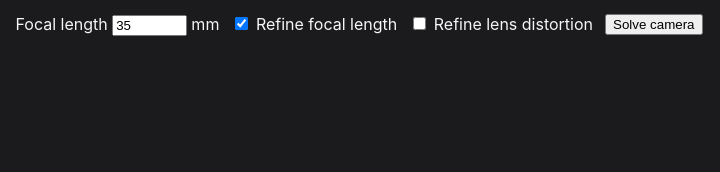
Test case: SolvePanel › shows why a solve failed
Click the button "Solve camera".
click(654, 24)  # box left=605, top=14, right=702, bottom=34
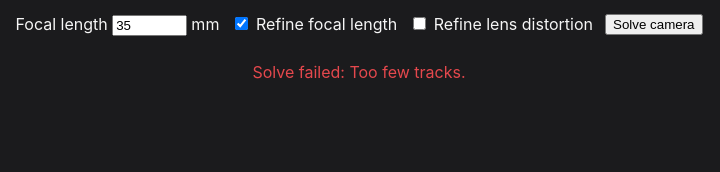
Result: the message reads "Solve failed: Too few tracks." at left=252, top=60, right=466, bottom=84
